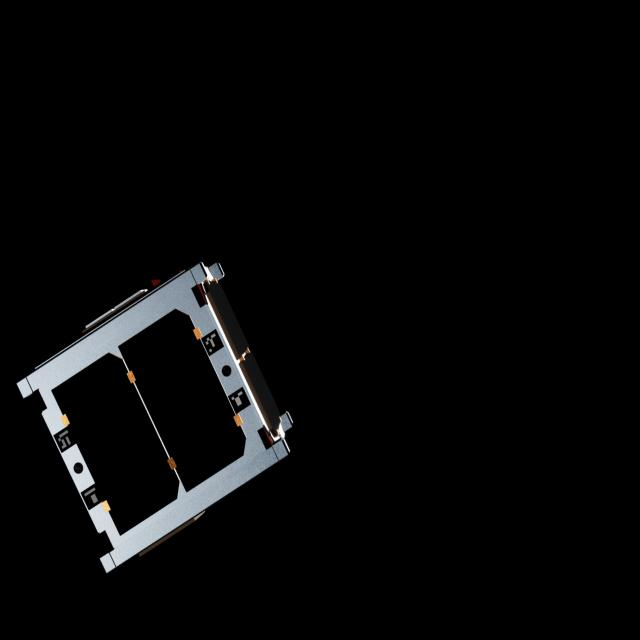medium_debris: (14, 256, 302, 580)
